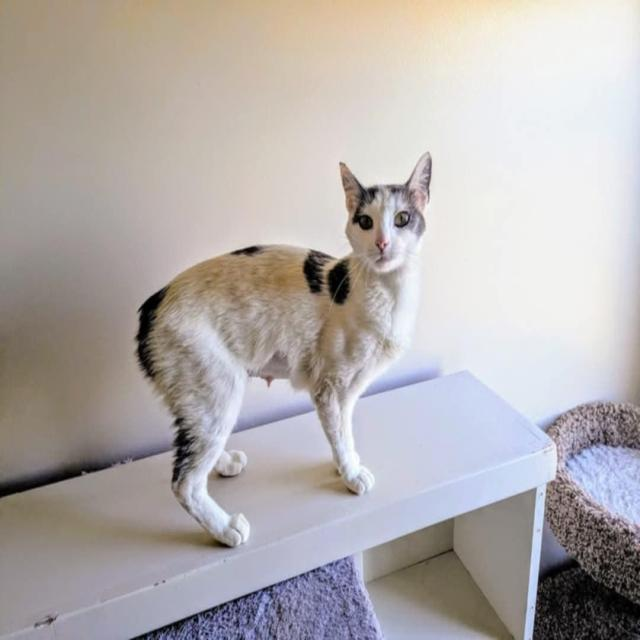manx_cat: (330, 150, 450, 283)
